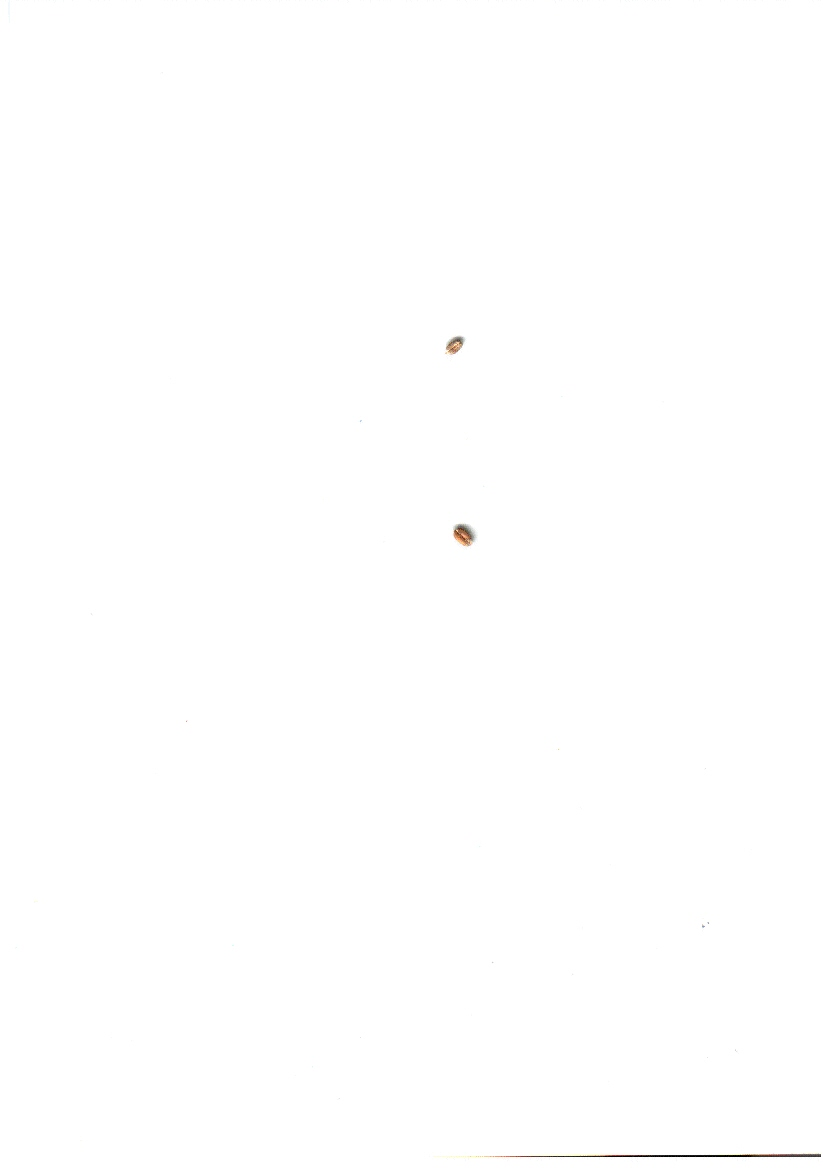grains: (433, 324, 479, 369), (442, 516, 481, 555)
